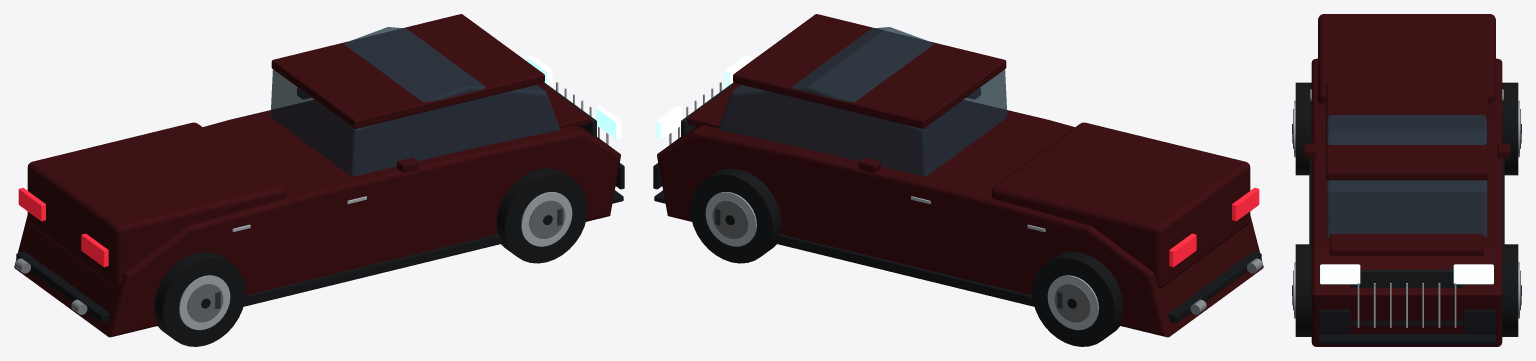
File: ford_f_250_super_duty.glb
3 renders of one model, left to right at view 1: azimuth 30°, elevation 25°; view 2: azimuth 150°, elevation 25°; view 3: azimuth 270°, elevation 25°, orthographic. The views are drawn at different scales.
Parts seen in each view (by area): view 1: sculpted_body, pickup_bed, cab, cab_roof, hood_center, rear_right_wheel_tire, front_right_wheel_tire, side_skirt_1, rear_diffuser, rear_right_wheel_rim, front_right_wheel_rim, rear_right_wheel_disc (+4 smaller); view 2: sculpted_body, pickup_bed, cab, cab_roof, hood_center, rear_left_wheel_tire, front_left_wheel_tire, side_skirt_-1, rear_diffuser, rear_left_wheel_rim, front_left_wheel_rim, rear_left_wheel_disc (+4 smaller); view 3: cab_roof, sculpted_body, cab, pickup_bed, hood_center, front_grille, front_splitter, front_left_wheel_tire, front_right_wheel_tire, rear_left_wheel_tire, rear_right_wheel_tire, headlight_left (+7 smaller).
Part boxes in pixels (x1,y1,x2,y2): sculpted_body: (14, 100, 620, 337); pickup_bed: (27, 122, 285, 287); cab: (270, 27, 559, 176); cab_roof: (271, 14, 544, 128); hood_center: (399, 83, 590, 151); rear_right_wheel_tire: (154, 252, 245, 346); front_right_wheel_tire: (496, 168, 587, 263); side_skirt_1: (243, 234, 502, 306); rear_diffuser: (16, 251, 109, 322); rear_right_wheel_rim: (179, 275, 230, 330); front_right_wheel_rim: (521, 192, 572, 246); rear_right_wheel_disc: (187, 284, 223, 322); sculpted_body: (657, 100, 1263, 337); pickup_bed: (992, 122, 1250, 287); cab: (718, 27, 1007, 176); cab_roof: (733, 14, 1006, 128); hood_center: (687, 83, 878, 151); rear_left_wheel_tire: (1032, 252, 1123, 346); front_left_wheel_tire: (690, 168, 781, 263); side_skirt_-1: (775, 234, 1034, 306); rear_diffuser: (1168, 251, 1261, 322); rear_left_wheel_rim: (1047, 275, 1098, 330); front_left_wheel_rim: (705, 192, 756, 246); rear_left_wheel_disc: (1054, 284, 1090, 322); cab_roof: (1326, 82, 1487, 180); sculpted_body: (1311, 58, 1502, 346); cab: (1326, 115, 1487, 237); pickup_bed: (1318, 14, 1495, 103); hood_center: (1330, 181, 1483, 255); front_grille: (1350, 269, 1463, 325); front_splitter: (1318, 334, 1495, 344); front_left_wheel_tire: (1502, 244, 1518, 336); front_right_wheel_tire: (1295, 244, 1311, 336); rear_left_wheel_tire: (1502, 82, 1518, 175); rear_right_wheel_tire: (1295, 82, 1311, 175); headlight_left: (1453, 264, 1493, 284).
Bounding box in the file's own units: 6.08 × 1.94 × 2.33.
